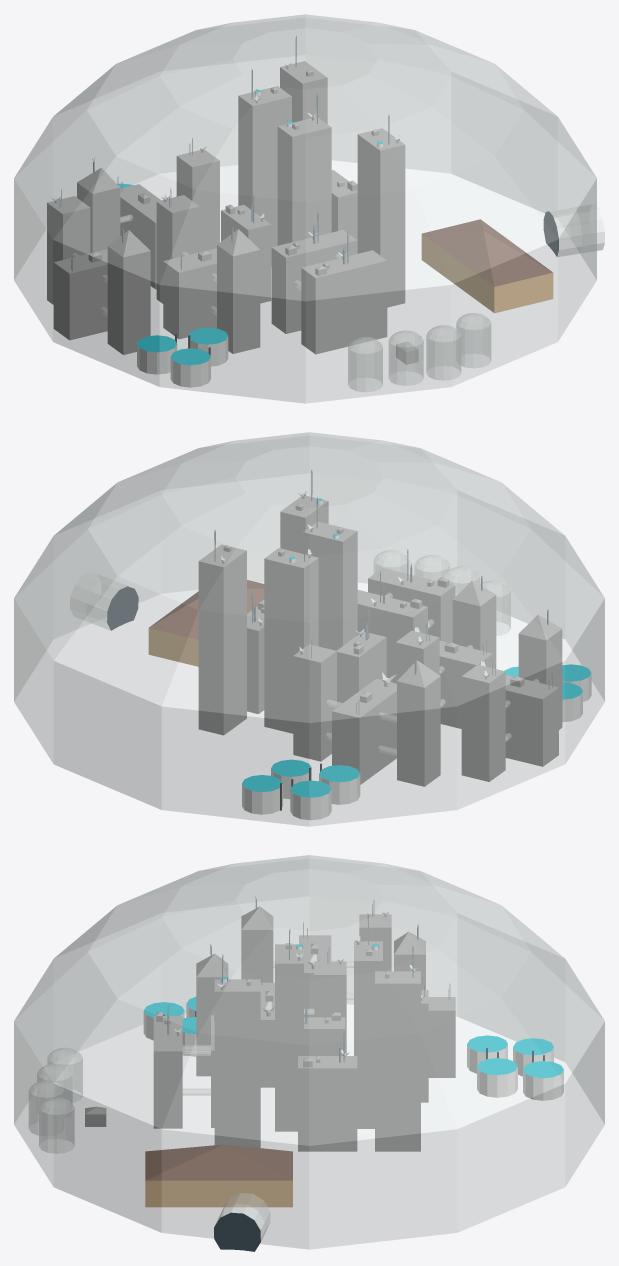
File: space_colony.glb
3 renders of one model, top to bottom at view 1: azimuth 30°, elevation 25°; view 2: azimuth 150°, elevation 25°; view 3: azimuth 270°, elevation 25°, orthographic.
Parts seen in each view (by area): view 1: group1818420559, group390365362, group1810108474, group391807544, group1696998026, group1140485106, group1805887278, group1637612257, group776652685, group1493711817, group1899006961, group848611273 (+15 smaller); view 2: group1818420559, group644846511, group1140485106, group1696998026, group1863889831, group1759975596, group2085997484, group848611273, group776652685, group390365362, group1810108474, group1637612257 (+18 smaller); view 3: group1818420559, group390365362, group644846511, group391807544, group1409445381, group1696998026, group1140485106, group1810108474, group38096506, group1637612257, group1863889831, group1805887278 (+16 smaller).
Part boxes in pixels (x1,y1,x2,y2): group1818420559: [14, 14, 596, 403]; group390365362: [421, 219, 553, 312]; group1810108474: [301, 250, 387, 354]; group391807544: [357, 128, 405, 307]; group1696998026: [277, 117, 331, 245]; group1140485106: [238, 86, 291, 266]; group1805887278: [217, 229, 260, 353]; group1637612257: [107, 230, 150, 354]; group776652685: [53, 249, 107, 340]; group1493711817: [163, 248, 216, 339]; group1899006961: [271, 230, 357, 333]; group848611273: [176, 150, 219, 251]; group1818420559: [14, 432, 604, 826]; group644846511: [198, 544, 246, 735]; group1140485106: [264, 548, 318, 733]; group1696998026: [303, 521, 357, 650]; group1863889831: [332, 679, 396, 784]; group1759975596: [397, 660, 440, 786]; group2085997484: [461, 665, 505, 781]; group848611273: [293, 644, 336, 761]; group776652685: [505, 675, 558, 766]; group390365362: [148, 580, 264, 666]; group1810108474: [368, 568, 455, 642]; group1637612257: [518, 615, 562, 729]; group1818420559: [14, 855, 604, 1249]; group390365362: [145, 1144, 292, 1207]; group644846511: [375, 971, 420, 1151]; group391807544: [214, 979, 260, 1147]; group1409445381: [298, 1056, 357, 1151]; group1696998026: [275, 944, 303, 1131]; group1140485106: [354, 941, 382, 1128]; group1810108474: [153, 1016, 182, 1128]; group38096506: [214, 1193, 269, 1251]; group1637612257: [241, 906, 273, 982]; group1863889831: [428, 997, 455, 1077]; group1805887278: [196, 954, 228, 1076].
Size of the model in its own units: 4.3 by 1.8 by 4.23.
